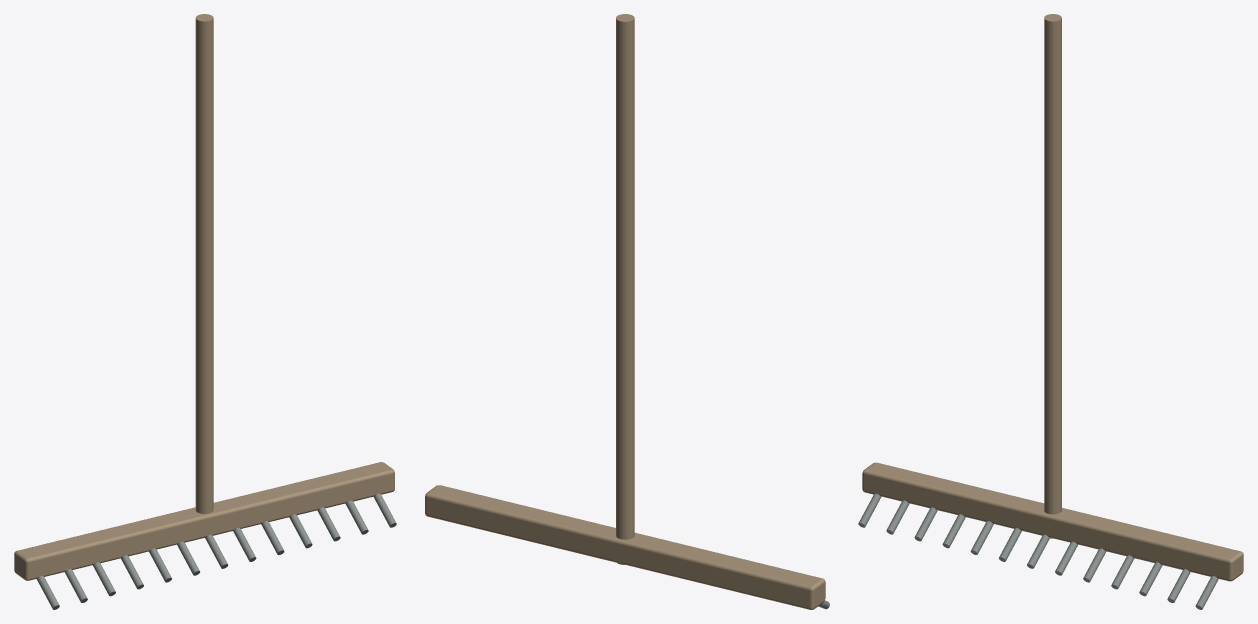
The model's file is coastal-saltworks-and-trade-port-coastal-saltworks-and-050d50cb__31380.glb.
The picture shows the model from 3 angles, left to right: view 1: azimuth 30°, elevation 25°; view 2: azimuth 150°, elevation 25°; view 3: azimuth 330°, elevation 25°; orthographic projection. The views are drawn at different scales.
Parts seen in each view (by area): view 1: coastal-saltworks-and-trade-port-long-salt-rake; view 2: coastal-saltworks-and-trade-port-long-salt-rake; view 3: coastal-saltworks-and-trade-port-long-salt-rake.
Boxes of the visible parts, box(x1,y1,x2,y2) form: coastal-saltworks-and-trade-port-long-salt-rake: box(14, 14, 396, 609); coastal-saltworks-and-trade-port-long-salt-rake: box(425, 14, 829, 609); coastal-saltworks-and-trade-port-long-salt-rake: box(858, 14, 1243, 609).
Bounding box in the file's own units: 1.2 × 1.66 × 0.1633.
